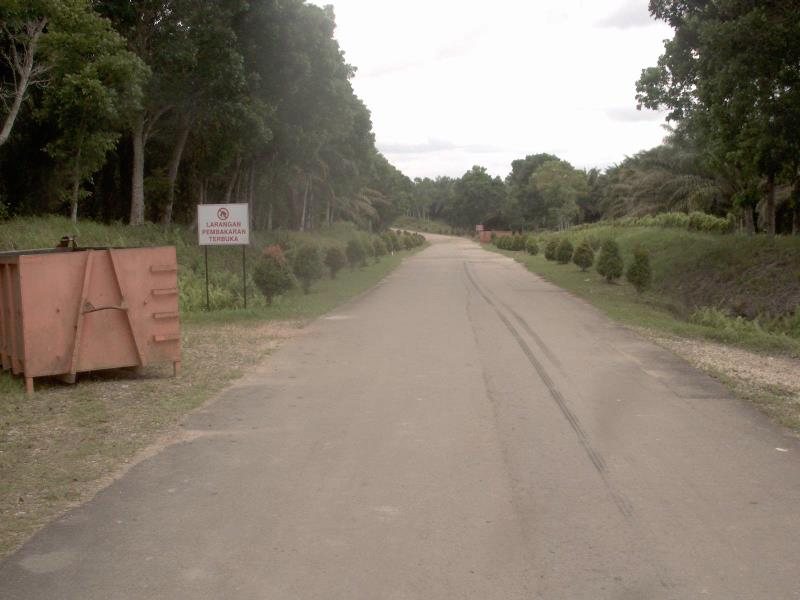ads_sign: (188, 194, 258, 254)
